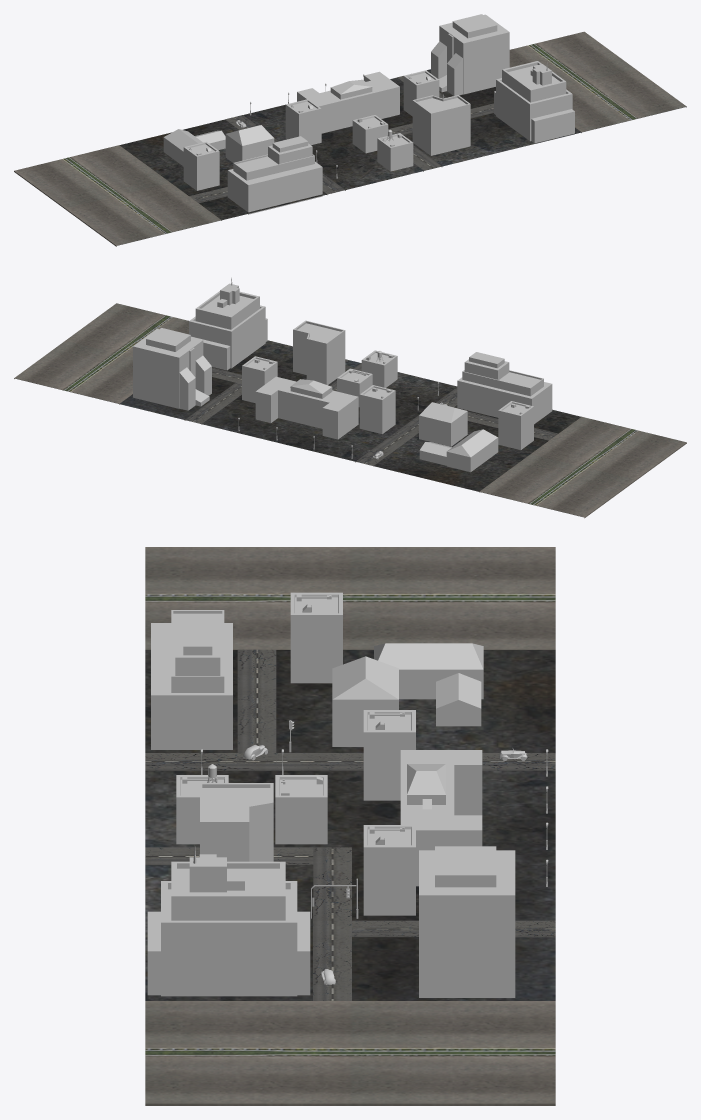
File: Block_17.fbx
3 views of the same model, one above another, from view 1: azimuth 30°, elevation 25°; view 2: azimuth 150°, elevation 25°; view 3: azimuth 270°, elevation 25° (orthographic). The views are drawn at different scales.
Visible parts, largest first — view 1: pasted__polySurface1337; view 2: pasted__polySurface1337; view 3: pasted__polySurface1337.
Part boxes in pixels (left/top/right/bottom): pasted__polySurface1337: left=14, top=14, right=686, bottom=246; pasted__polySurface1337: left=14, top=277, right=686, bottom=518; pasted__polySurface1337: left=145, top=547, right=555, bottom=1105.
Size of the model in its own units: 459 by 143 by 55.04.
